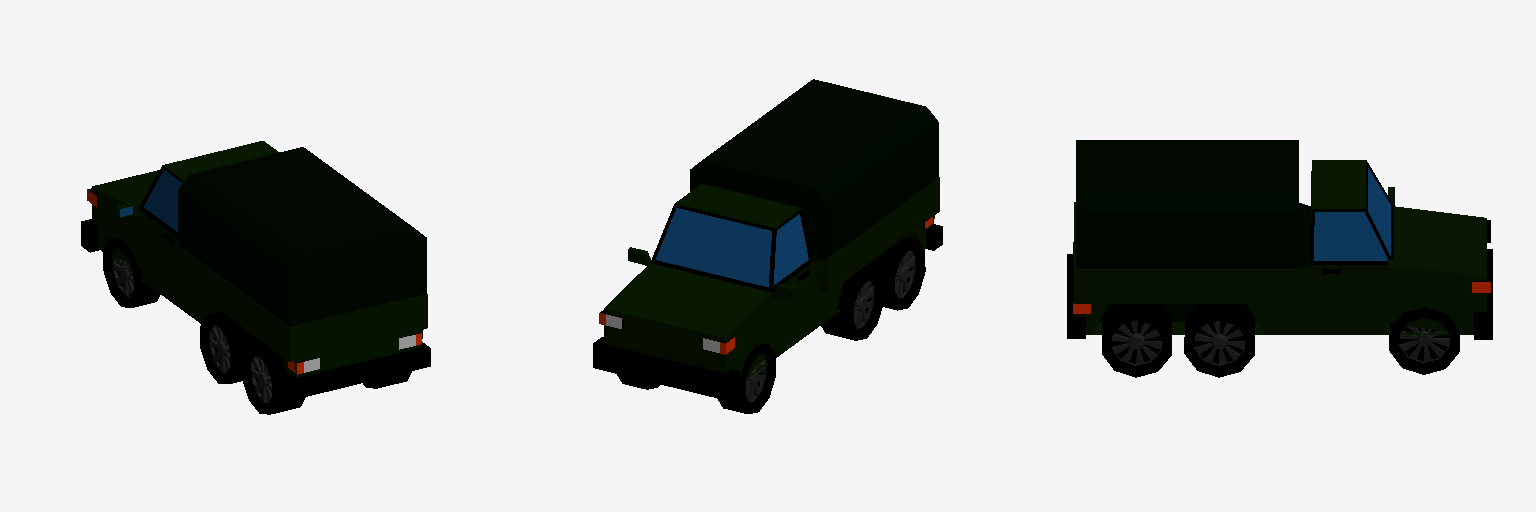
The model's file is militaryTrack.obj.
The picture shows the model from 3 angles: view 1: azimuth 30°, elevation 25°; view 2: azimuth 150°, elevation 25°; view 3: azimuth 270°, elevation 25°; orthographic projection.
Parts seen in each view (by area): view 1: car001.003_Cube.005; view 2: car001.003_Cube.005; view 3: car001.003_Cube.005.
Boxes of the visible parts, x1=… form: car001.003_Cube.005: x1=81, y1=141, x2=430, y2=414; car001.003_Cube.005: x1=593, y1=79, x2=942, y2=413; car001.003_Cube.005: x1=1067, y1=140, x2=1492, y2=377.
Size of the model in its own units: 1.19 by 1.22 by 2.65.